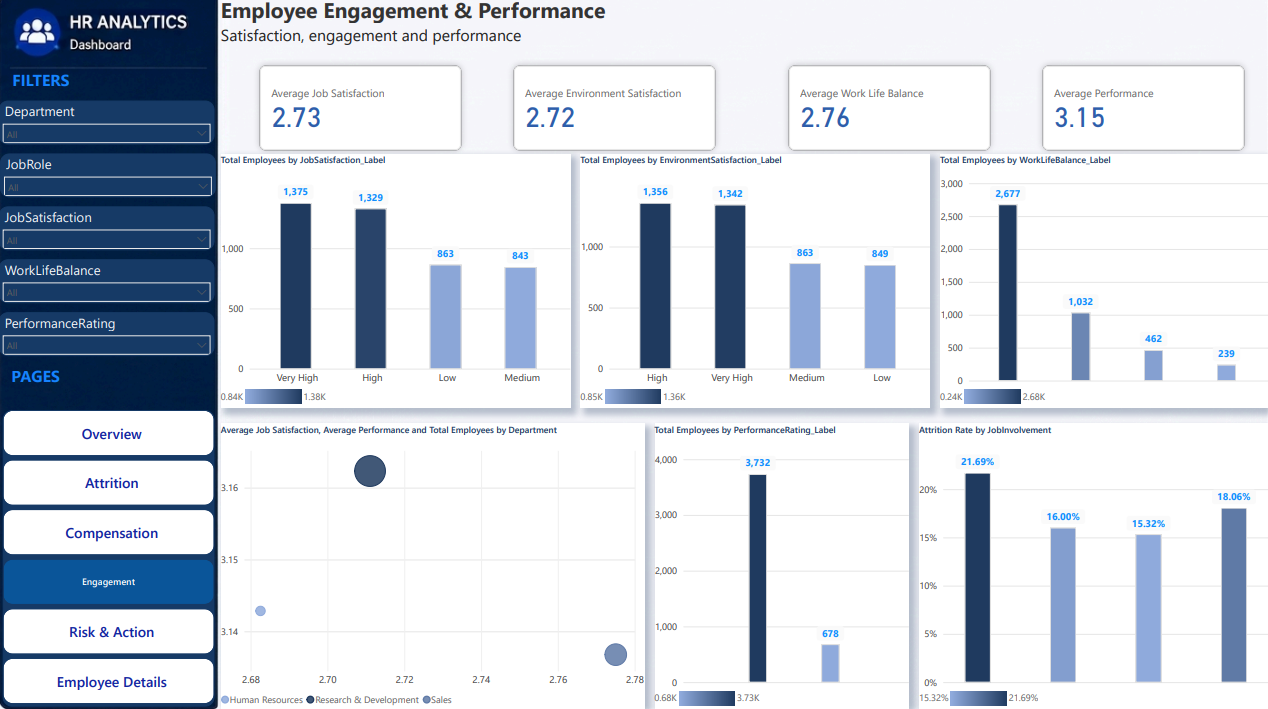

The dashboard page shown, as its layout file describes it:
{"tool":"powerbi","page":{"name":"Engagement","canvas":[1920,1080],"ordinal":3},"visuals":[{"type":"slicer","fields":{"Values":["HR_Analytics_Cleaned_data.JobRole"]},"box":[2,240,326,66],"z":0},{"type":"slicer","fields":{"Values":["HR_Analytics_Cleaned_data.JobSatisfaction"]},"box":[0,320,326,66],"z":1000},{"type":"slicer","fields":{"Values":["HR_Analytics_Cleaned_data.WorkLifeBalance"]},"box":[0,400,326,66],"z":2000},{"type":"slicer","fields":{"Values":["HR_Analytics_Cleaned_data.PerformanceRating"]},"box":[0,480,326,66],"z":3000},{"type":"slicer","fields":{"Values":["HR_Analytics_Cleaned_data.Department"]},"box":[0,160,326,66],"z":4000},{"type":"textbox","box":[0,112,128,32],"z":5000},{"type":"cardVisual","fields":{"Data":["HR_Analytics_Cleaned_data.Average Job Satisfaction"]},"box":[384,96,326,150],"z":6000},{"type":"cardVisual","fields":{"Data":["HR_Analytics_Cleaned_data.Average Environment Satisfaction"]},"box":[768,96,326,150],"z":7000},{"type":"cardVisual","fields":{"Data":["HR_Analytics_Cleaned_data.Average Work Life Balance"]},"box":[1184,96,326,150],"z":8000},{"type":"cardVisual","fields":{"Data":["HR_Analytics_Cleaned_data.Average Performance"]},"box":[1568,96,326,150],"z":9000},{"type":"columnChart","fields":{"Category":["HR_Analytics_Cleaned_data.JobSatisfaction_Label"],"Y":["HR_Analytics_Cleaned_data.Total Employees"]},"box":[336,240,528,384],"z":10000},{"type":"columnChart","fields":{"Category":["HR_Analytics_Cleaned_data.EnvironmentSatisfaction_Label"],"Y":["HR_Analytics_Cleaned_data.Total Employees"]},"box":[880,240,528,384],"z":11000},{"type":"columnChart","fields":{"Category":["HR_Analytics_Cleaned_data.WorkLifeBalance_Label"],"Y":["HR_Analytics_Cleaned_data.Total Employees"]},"box":[1424,240,496,384],"z":12000},{"type":"scatterChart","fields":{"Series":["HR_Analytics_Cleaned_data.Department"],"Size":["HR_Analytics_Cleaned_data.Total Employees"],"X":["HR_Analytics_Cleaned_data.Average Job Satisfaction"],"Y":["HR_Analytics_Cleaned_data.Average Performance"]},"box":[336,648,640,432],"z":13000},{"type":"columnChart","fields":{"Category":["HR_Analytics_Cleaned_data.PerformanceRating_Label"],"Y":["HR_Analytics_Cleaned_data.Total Employees"]},"box":[992,648,384,432],"z":14000},{"type":"columnChart","fields":{"Category":["HR_Analytics_Cleaned_data.JobInvolvement"],"Y":["HR_Analytics_Cleaned_data.Attrition Rate"]},"box":[1392,648,528,432],"z":15000},{"type":"pageNavigator","box":[6,628,320,448],"z":16000},{"type":"textbox","box":[0,560,112,48],"z":17000},{"type":"textbox","box":[336,0,944,80],"z":18000}]}

Visuals, with their boxes on the page's 1920x1080 design canvas (x1, y1, x2, y2). These are canvas units, not pixel positions in the 1268x709 screenshot, which may show the page scaled, cropped or inside an application window:
slicer - HR_Analytics_Cleaned_data.JobRole: (2, 240, 328, 306)
slicer - HR_Analytics_Cleaned_data.JobSatisfaction: (0, 320, 326, 386)
slicer - HR_Analytics_Cleaned_data.WorkLifeBalance: (0, 400, 326, 466)
slicer - HR_Analytics_Cleaned_data.PerformanceRating: (0, 480, 326, 546)
slicer - HR_Analytics_Cleaned_data.Department: (0, 160, 326, 226)
textbox: (0, 112, 128, 144)
cardVisual - HR_Analytics_Cleaned_data.Average Job Satisfaction: (384, 96, 710, 246)
cardVisual - HR_Analytics_Cleaned_data.Average Environment Satisfaction: (768, 96, 1094, 246)
cardVisual - HR_Analytics_Cleaned_data.Average Work Life Balance: (1184, 96, 1510, 246)
cardVisual - HR_Analytics_Cleaned_data.Average Performance: (1568, 96, 1894, 246)
columnChart - HR_Analytics_Cleaned_data.JobSatisfaction_Label x HR_Analytics_Cleaned_data.Total Employees: (336, 240, 864, 624)
columnChart - HR_Analytics_Cleaned_data.EnvironmentSatisfaction_Label x HR_Analytics_Cleaned_data.Total Employees: (880, 240, 1408, 624)
columnChart - HR_Analytics_Cleaned_data.WorkLifeBalance_Label x HR_Analytics_Cleaned_data.Total Employees: (1424, 240, 1920, 624)
scatterChart - HR_Analytics_Cleaned_data.Department x HR_Analytics_Cleaned_data.Total Employees: (336, 648, 976, 1080)
columnChart - HR_Analytics_Cleaned_data.PerformanceRating_Label x HR_Analytics_Cleaned_data.Total Employees: (992, 648, 1376, 1080)
columnChart - HR_Analytics_Cleaned_data.JobInvolvement x HR_Analytics_Cleaned_data.Attrition Rate: (1392, 648, 1920, 1080)
pageNavigator: (6, 628, 326, 1076)
textbox: (0, 560, 112, 608)
textbox: (336, 0, 1280, 80)
